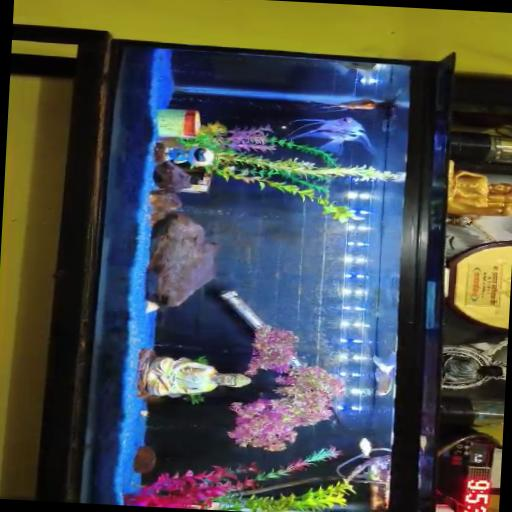Fish: (286, 117, 374, 153), (371, 355, 394, 396), (317, 98, 380, 112), (332, 61, 379, 77), (358, 438, 371, 457)
